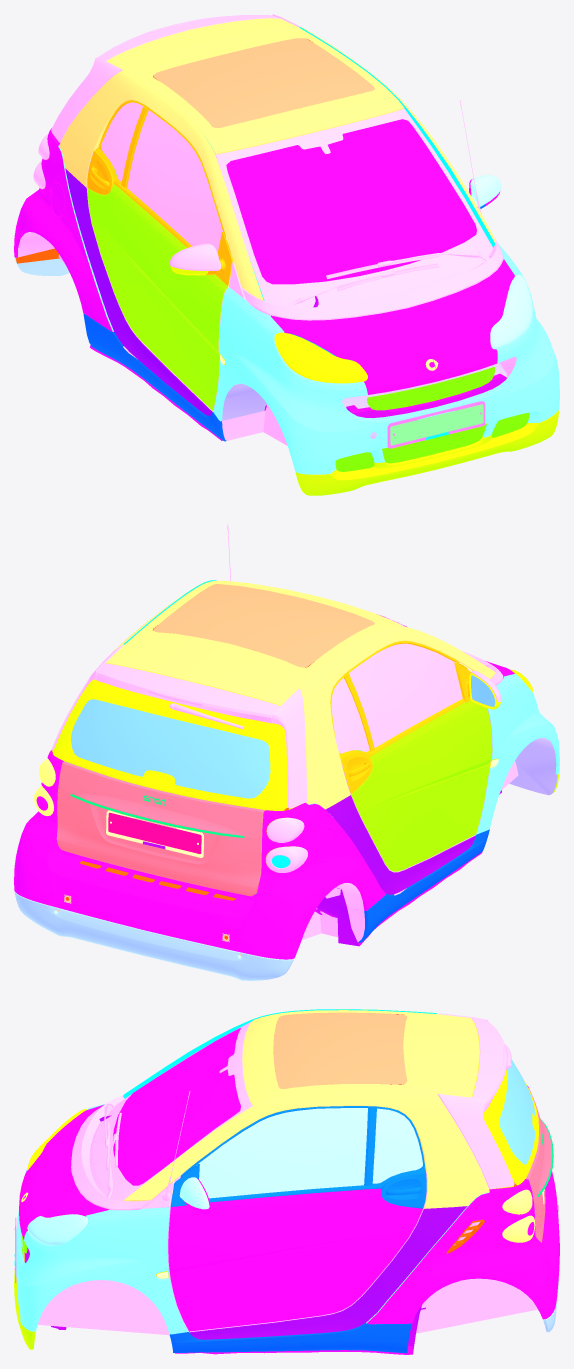
The model's file is car_body_debug.glb.
3 renders of one model, top to bottom at view 1: azimuth 30°, elevation 25°; view 2: azimuth 150°, elevation 25°; view 3: azimuth 270°, elevation 25°, orthographic. The views are drawn at different scales.
Parts seen in each view (by area): view 1: smart_windshield|vivace_glass, smart_norm_body|smart_plastic, smart_norm_body|smart_bodymid_roof, smart_bumper_a_F|smart_body, smart_hatch_door_FR|smart_body, smart_hood_a|smart_body, smart_roofp|smart_bodymid, smart_hatch_doorglass_FR|vivace_glass, smart_bumper_a_R|smart_body, smart_grille_a|smart_plastic, smart_bumper_a_F|grille, smart_norm_body|smart_bodymid (+12 smaller); view 2: smart_bumper_a_R|smart_body, smart_norm_body|smart_bodymid_roof, smart_hatch_door_FR|smart_body, smart_tailgate_makalong|smart_body, smart_norm_body|vivace_glass, smart_roofp|smart_bodymid, smart_norm_body|smart_plastic, smart_hatch_doorglass_FR|vivace_glass, smart_norm_body|smart_black, smart_bumper_chromeR|smart_plastic, smart_bumper_a_F|smart_body, smart_norm_body|smart_bodymid (+10 smaller); view 3: smart_hatch_door_FL|smart_body, smart_norm_body|smart_plastic, smart_norm_body|smart_bodymid_roof, smart_hatch_doorglass_FL|vivace_glass, smart_bumper_a_F|smart_body, smart_bumper_a_R|smart_body, smart_windshield|vivace_glass, smart_roofp|smart_bodymid, smart_norm_body|smart_bodymid, smart_hood_a|smart_body, smart_body_trim_roof_p|smart_body, smart_hatch_door_FL|smart_plastic (+9 smaller).
Boxes of the visible parts, box(x1,y1,x2,y2) form: smart_windshield|vivace_glass: box(226, 119, 476, 284); smart_norm_body|smart_plastic: box(18, 14, 516, 445); smart_norm_body|smart_bodymid_roof: box(59, 18, 495, 300); smart_bumper_a_F|smart_body: box(213, 243, 559, 474); smart_hatch_door_FR|smart_body: box(87, 184, 227, 410); smart_hood_a|smart_body: box(271, 259, 514, 394); smart_roofp|smart_bodymid: box(153, 38, 374, 127); smart_hatch_doorglass_FR|vivace_glass: box(101, 102, 222, 252); smart_bumper_a_R|smart_body: box(14, 128, 112, 331); smart_grille_a|smart_plastic: box(295, 410, 559, 495); smart_bumper_a_F|grille: box(335, 367, 529, 471); smart_norm_body|smart_bodymid: box(65, 168, 212, 415); smart_bumper_a_R|smart_body: box(14, 750, 385, 959); smart_norm_body|smart_bodymid_roof: box(106, 580, 495, 809); smart_hatch_door_FR|smart_body: box(351, 700, 492, 871); smart_tailgate_makalong|smart_body: box(56, 761, 264, 896); smart_norm_body|vivace_glass: box(71, 699, 270, 798); smart_roofp|smart_bodymid: box(153, 584, 374, 667); smart_norm_body|smart_plastic: box(51, 524, 518, 941); smart_hatch_doorglass_FR|vivace_glass: box(331, 643, 462, 753); smart_norm_body|smart_black: box(52, 663, 298, 810); smart_bumper_chromeR|smart_plastic: box(14, 892, 293, 980); smart_bumper_a_F|smart_body: box(476, 673, 559, 834); smart_norm_body|smart_bodymid: box(325, 795, 475, 894); smart_hatch_door_FL|smart_body: box(168, 1188, 422, 1331); smart_norm_body|smart_plastic: box(37, 1013, 537, 1335); smart_norm_body|smart_bodymid_roof: box(123, 1009, 489, 1208); smart_hatch_doorglass_FL|vivace_glass: box(199, 1108, 422, 1198); smart_bumper_a_F|smart_body: box(16, 1103, 188, 1334); smart_bumper_a_R|smart_body: box(367, 1085, 559, 1324); smart_windshield|vivace_glass: box(113, 1028, 240, 1185); smart_roofp|smart_bodymid: box(273, 1012, 407, 1088); smart_norm_body|smart_bodymid: box(189, 1206, 467, 1339); smart_hood_a|smart_body: box(19, 1105, 108, 1239); smart_body_trim_roof_p|smart_body: box(169, 1323, 411, 1353); smart_hatch_door_FL|smart_plastic: box(170, 1106, 426, 1208).
Bounding box in the file's own units: 1.78 × 1.43 × 2.73.
